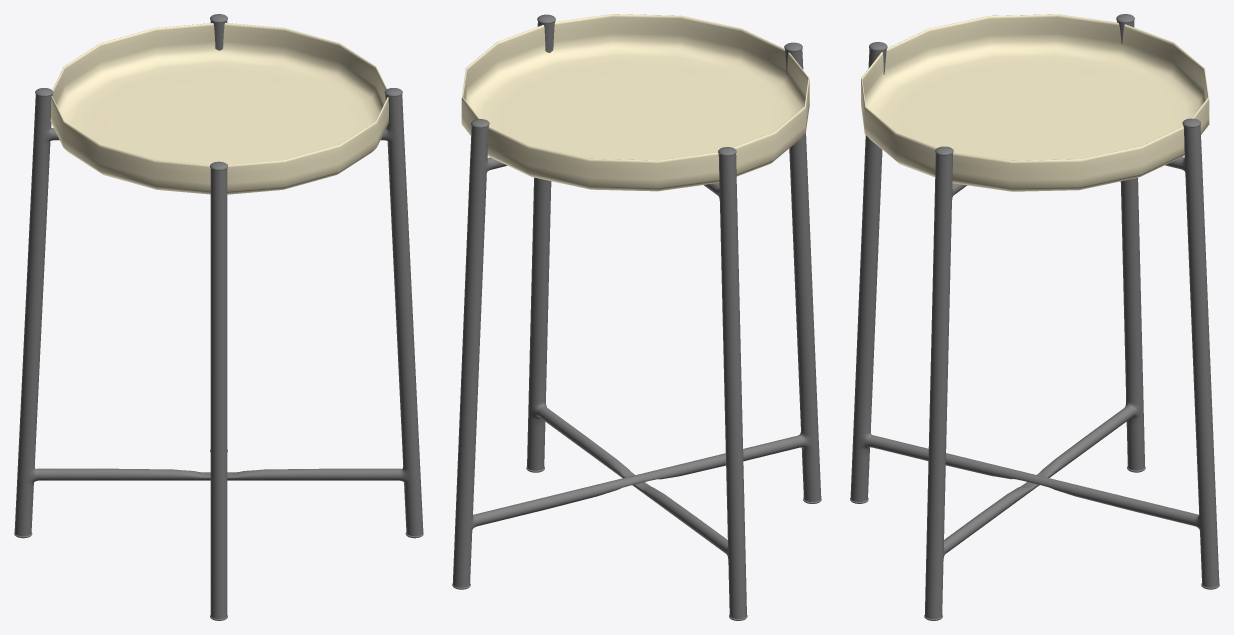
File: RDS_Table_13.FBX
3 views of the same model, side by side, from view 1: azimuth 30°, elevation 25°; view 2: azimuth 150°, elevation 25°; view 3: azimuth 270°, elevation 25° (orthographic). The views are drawn at different scales.
Visible parts, largest first — view 1: Cylinder003, Cylinder001, Table 13; view 2: Cylinder003, Cylinder001, Table 13; view 3: Cylinder003, Cylinder001, Table 13.
Boxes of the visible parts, x1,y1,x2,y2 form: Cylinder003: (50,23,388,194); Cylinder001: (14,21,423,618); Table 13: (14,14,423,620); Cylinder003: (461,14,809,191); Cylinder001: (452,21,821,618); Table 13: (452,14,821,620); Cylinder003: (861,14,1209,191); Cylinder001: (850,20,1219,618); Table 13: (850,14,1219,620).
Bounding box in the file's own units: 39 × 53.79 × 39.
